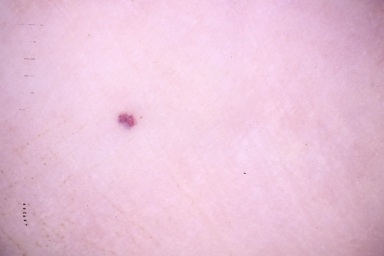nevus: (115, 111, 137, 128)
